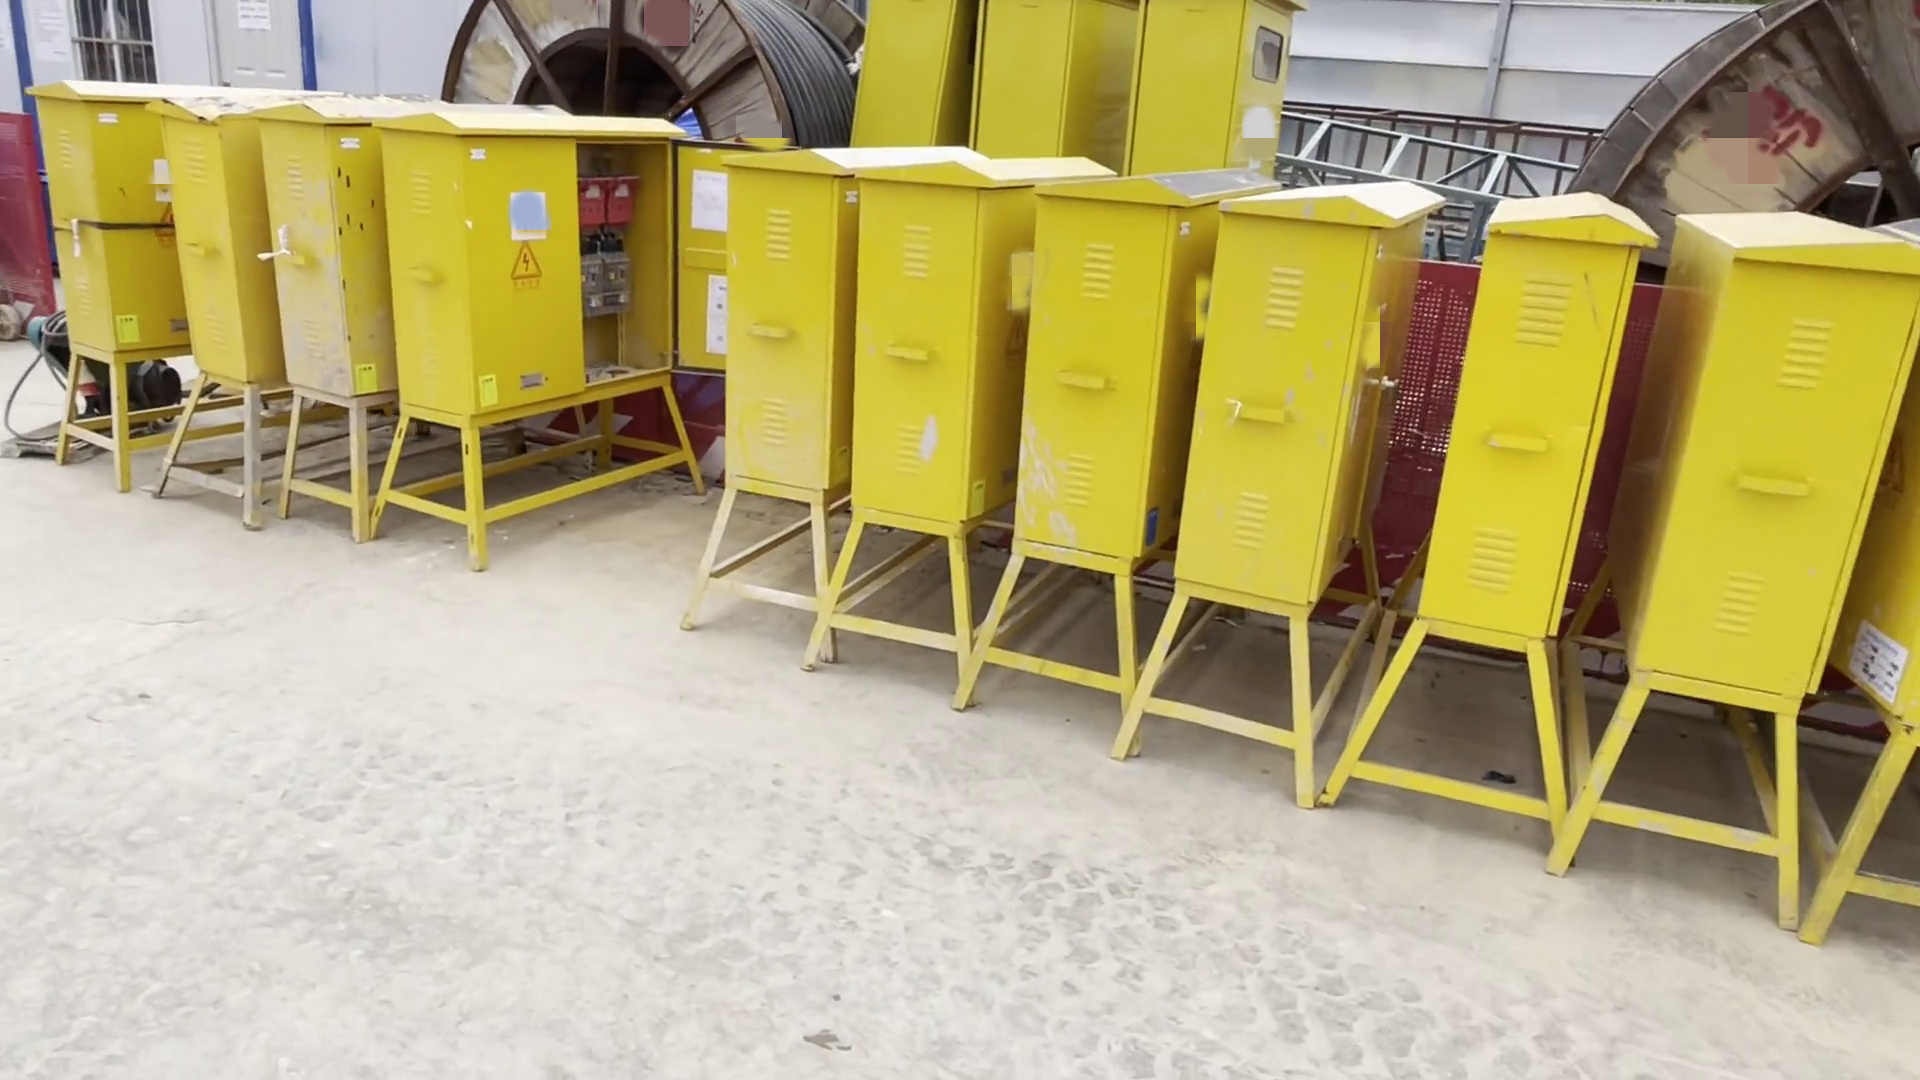ebox: (1555, 220, 1909, 884), (1327, 193, 1629, 812), (1127, 186, 1445, 756), (968, 170, 1263, 698), (385, 105, 707, 589), (800, 157, 1095, 678), (687, 152, 971, 626), (51, 75, 219, 512), (249, 87, 400, 539), (156, 71, 293, 530), (1120, 1, 1287, 193), (971, 1, 1113, 170), (844, 1, 972, 149)
